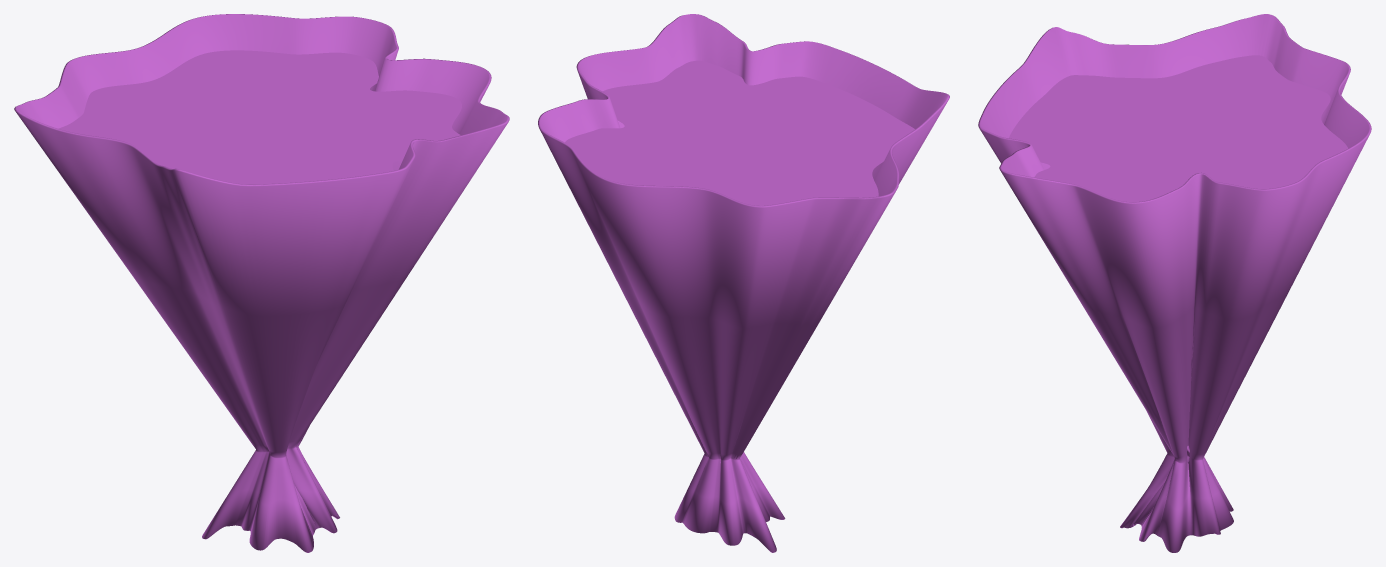
File: paper.obj
3 renders of one model, left to right at view 1: azimuth 30°, elevation 25°; view 2: azimuth 150°, elevation 25°; view 3: azimuth 270°, elevation 25°, orthographic. The views are drawn at different scales.
Parts seen in each view (by area): view 1: BezierCurve, BezierCurve.001; view 2: BezierCurve, BezierCurve.001; view 3: BezierCurve, BezierCurve.001.
Boxes of the visible parts, left/top/right/bottom form: BezierCurve: left=14, top=14, right=509, bottom=552; BezierCurve.001: left=58, top=50, right=461, bottom=184; BezierCurve: left=538, top=14, right=949, bottom=552; BezierCurve.001: left=565, top=60, right=914, bottom=205; BezierCurve: left=978, top=14, right=1371, bottom=552; BezierCurve.001: left=1009, top=55, right=1347, bottom=201.
Size of the model in its own units: 64.25 by 69.44 by 57.74.
